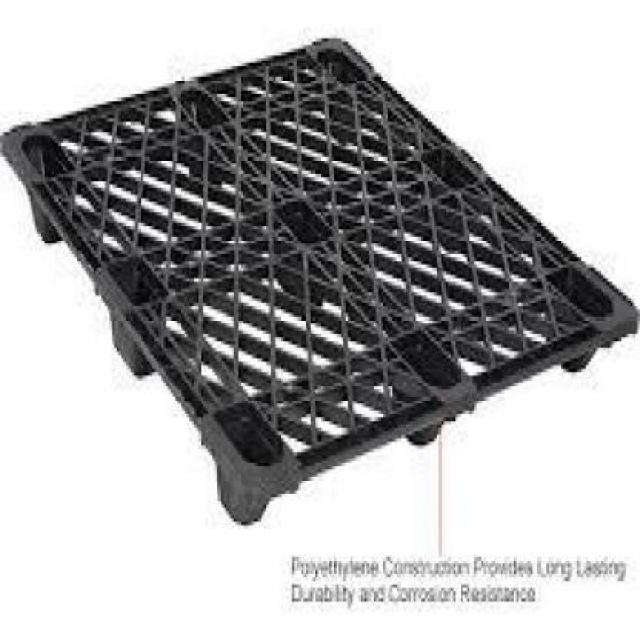pallet: (0, 29, 637, 538)
